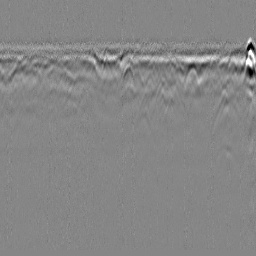cavity: (122, 62, 134, 80)
